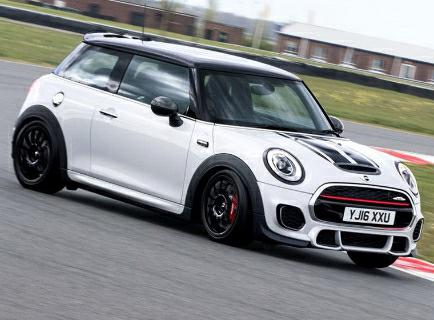MINI-JCW: (18, 33, 416, 273)
